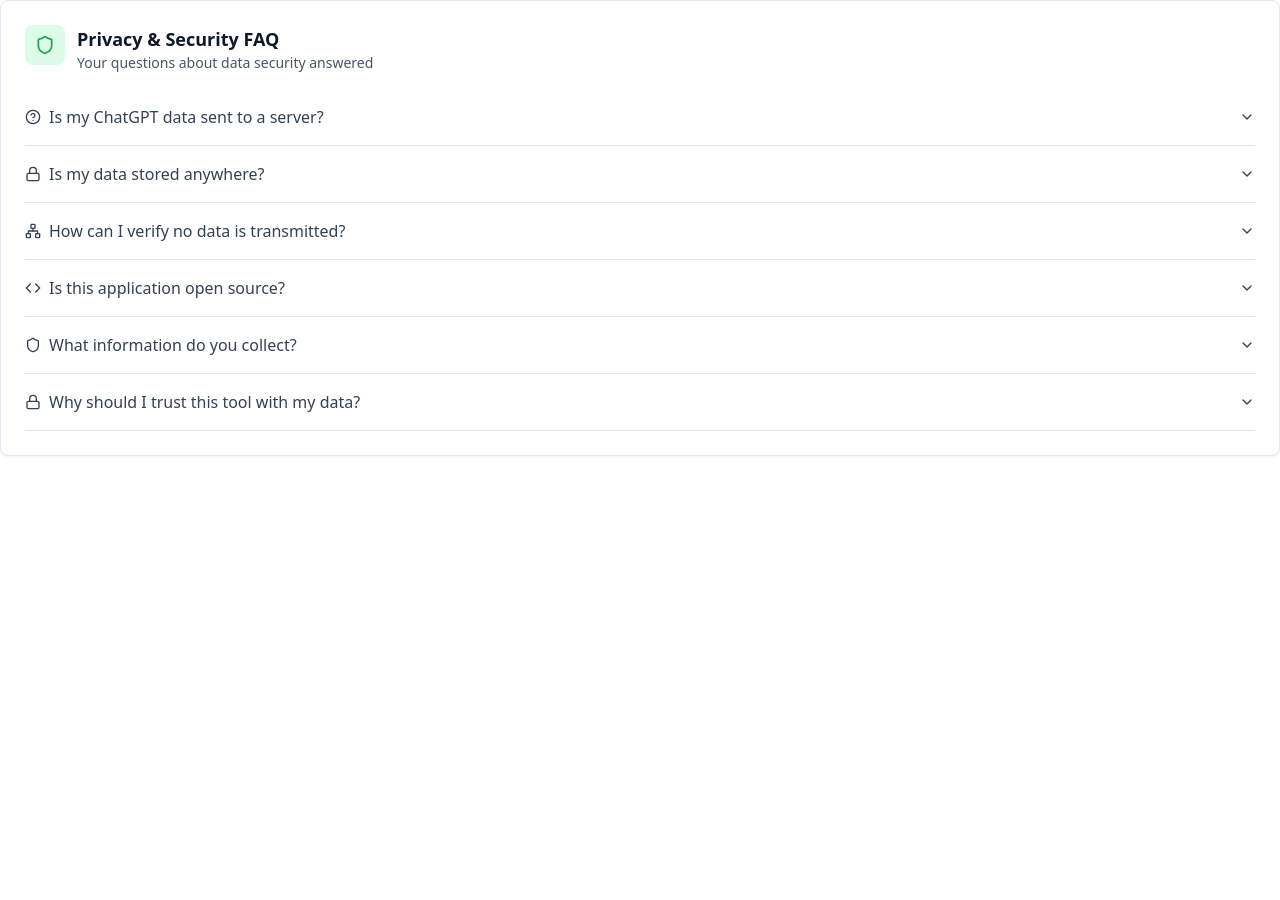
Test: PrivacyFAQ › has single primary GitHub link in open source section
Click the button "Is this application open source?": (167, 288) top-left (25, 260), bottom-right (1255, 316)
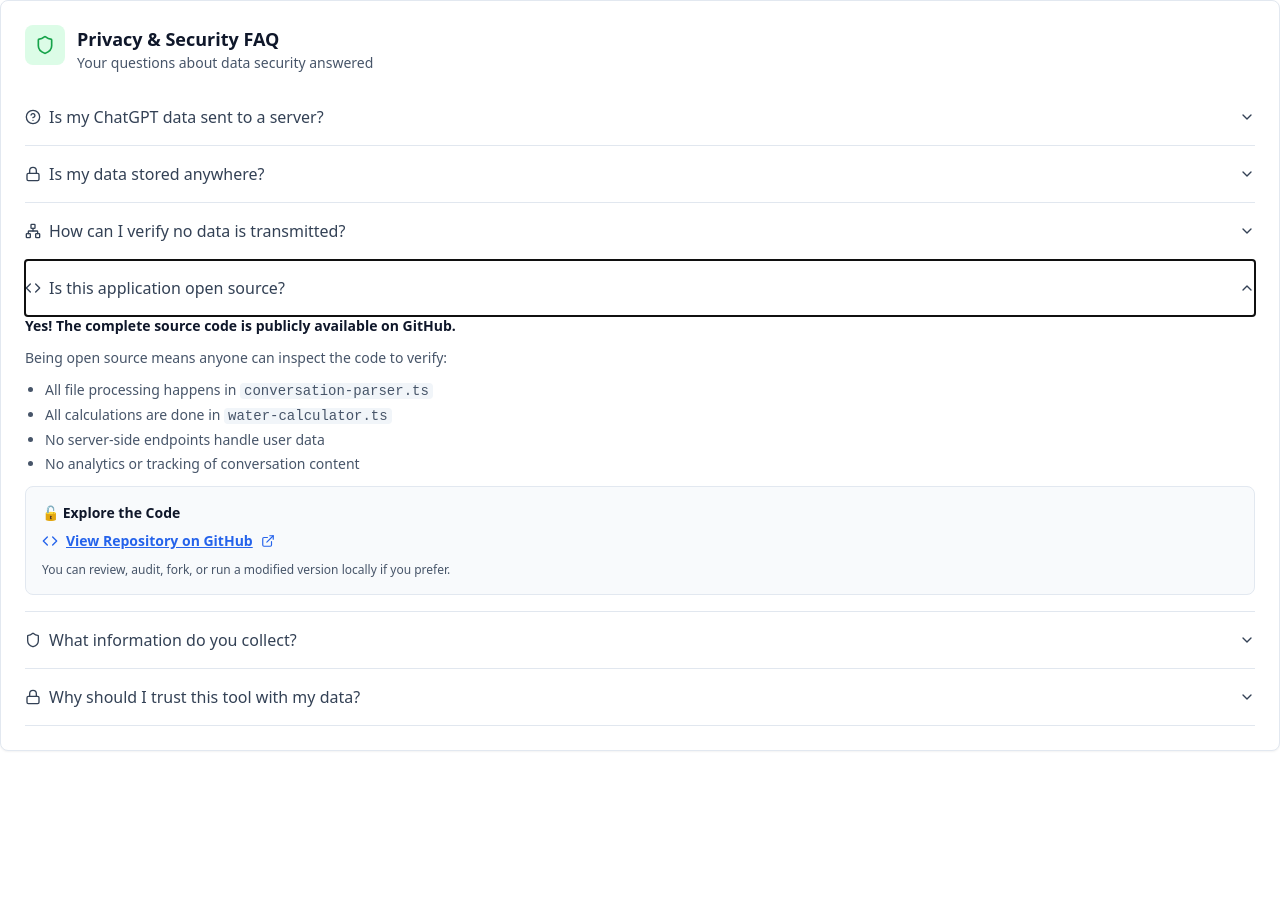
Result: the link "View Repository on GitHub" is shown at top-left (42, 531), bottom-right (275, 551)
